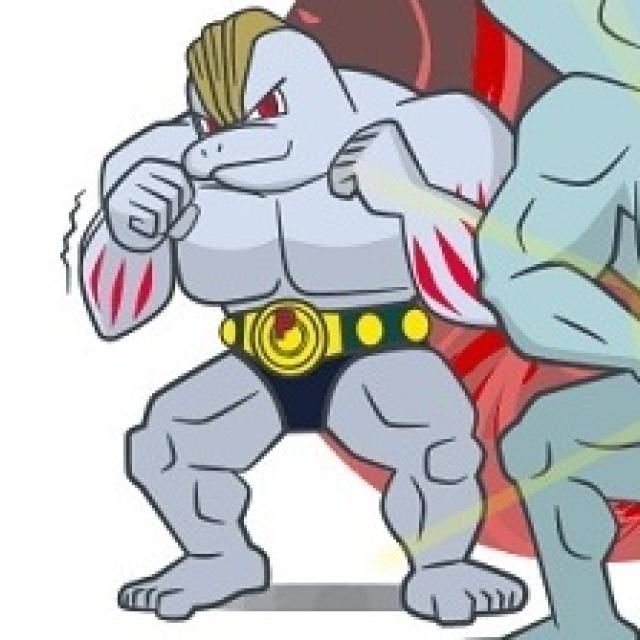Machoke: (59, 10, 542, 622)
